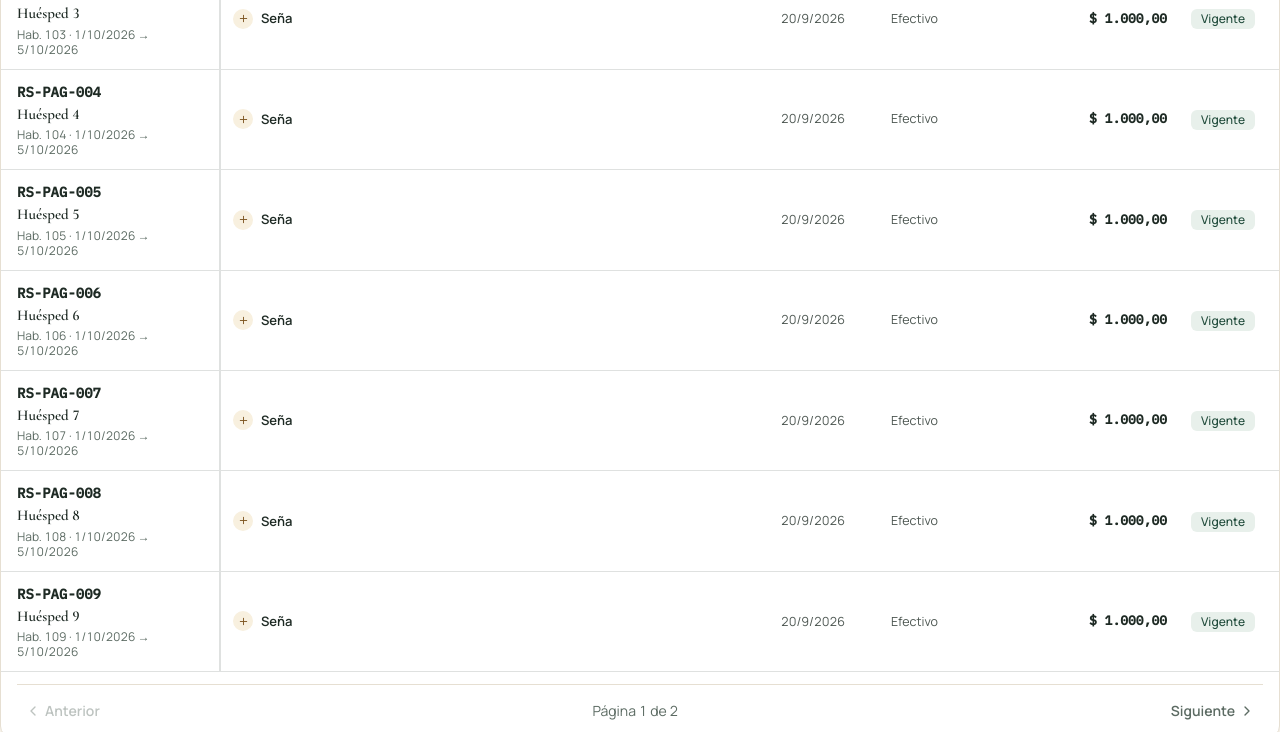
Test: MovimientosPagoPage › cambiar un filtro vuelve a la página 1
(page scrolled)
Click the button "Siguiente": (1213, 711) [1163,697,1263,725]
(page scrolled)
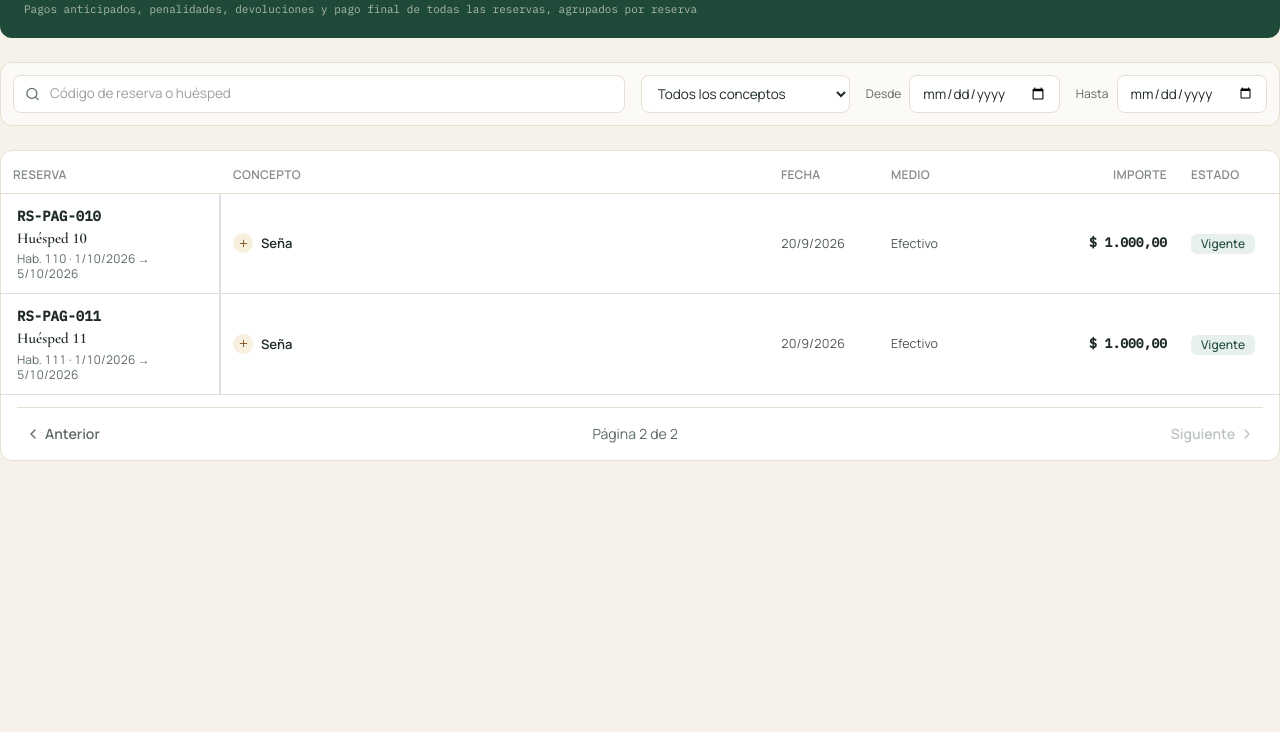
Check: the text "RS-PAG-010" is shown, box [17,206,101,226]
Select "Seña" in the dropdown: (745, 94) [641,75,850,113]
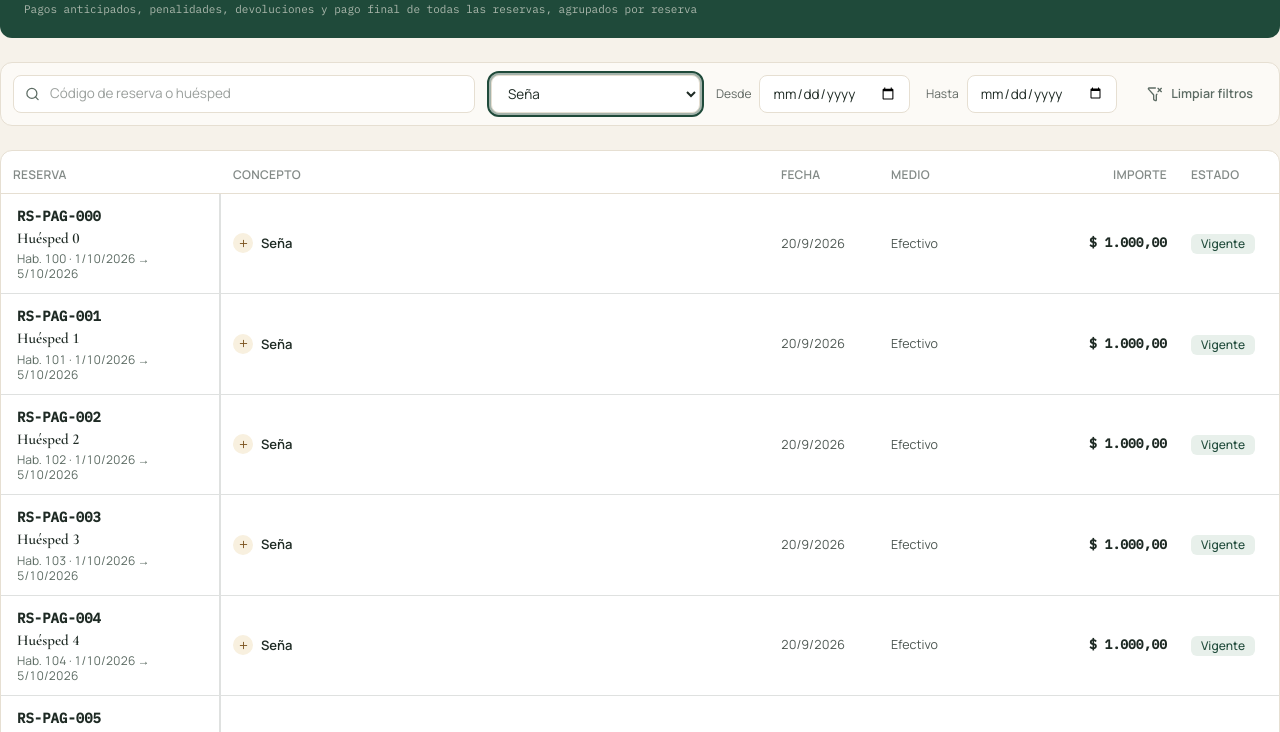
Check: the text "RS-PAG-000" is shown, box [17,206,101,226]
Check: the text "RS-PAG-010" is gone
